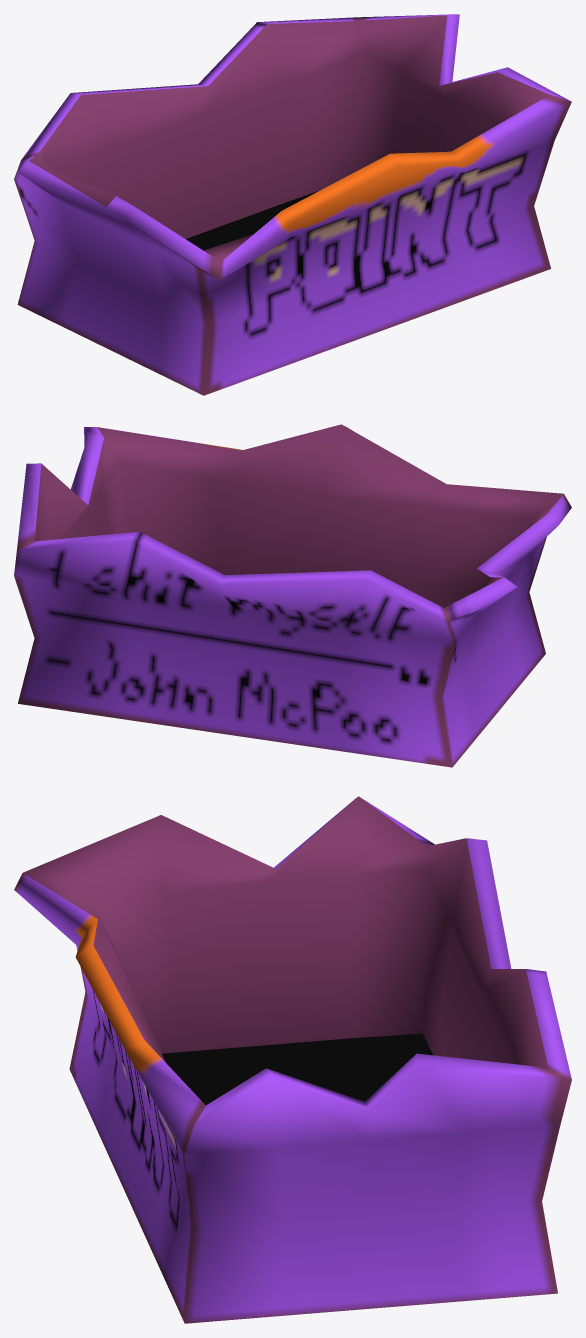
Rendered from CheckpointDESTROYED.obj.
3 views of the same model, one above another, from view 1: azimuth 30°, elevation 25°; view 2: azimuth 150°, elevation 25°; view 3: azimuth 270°, elevation 25° (orthographic). The views are drawn at different scales.
Parts seen in each view (by area): view 1: Cube; view 2: Cube; view 3: Cube.
Part boxes in pixels (bbox=[...]): Cube: bbox=[14, 14, 571, 395]; Cube: bbox=[14, 424, 571, 767]; Cube: bbox=[14, 796, 571, 1323].
Bounding box in the file's own units: 2.48 × 0.9333 × 1.82.
1 material, 1 textured.
